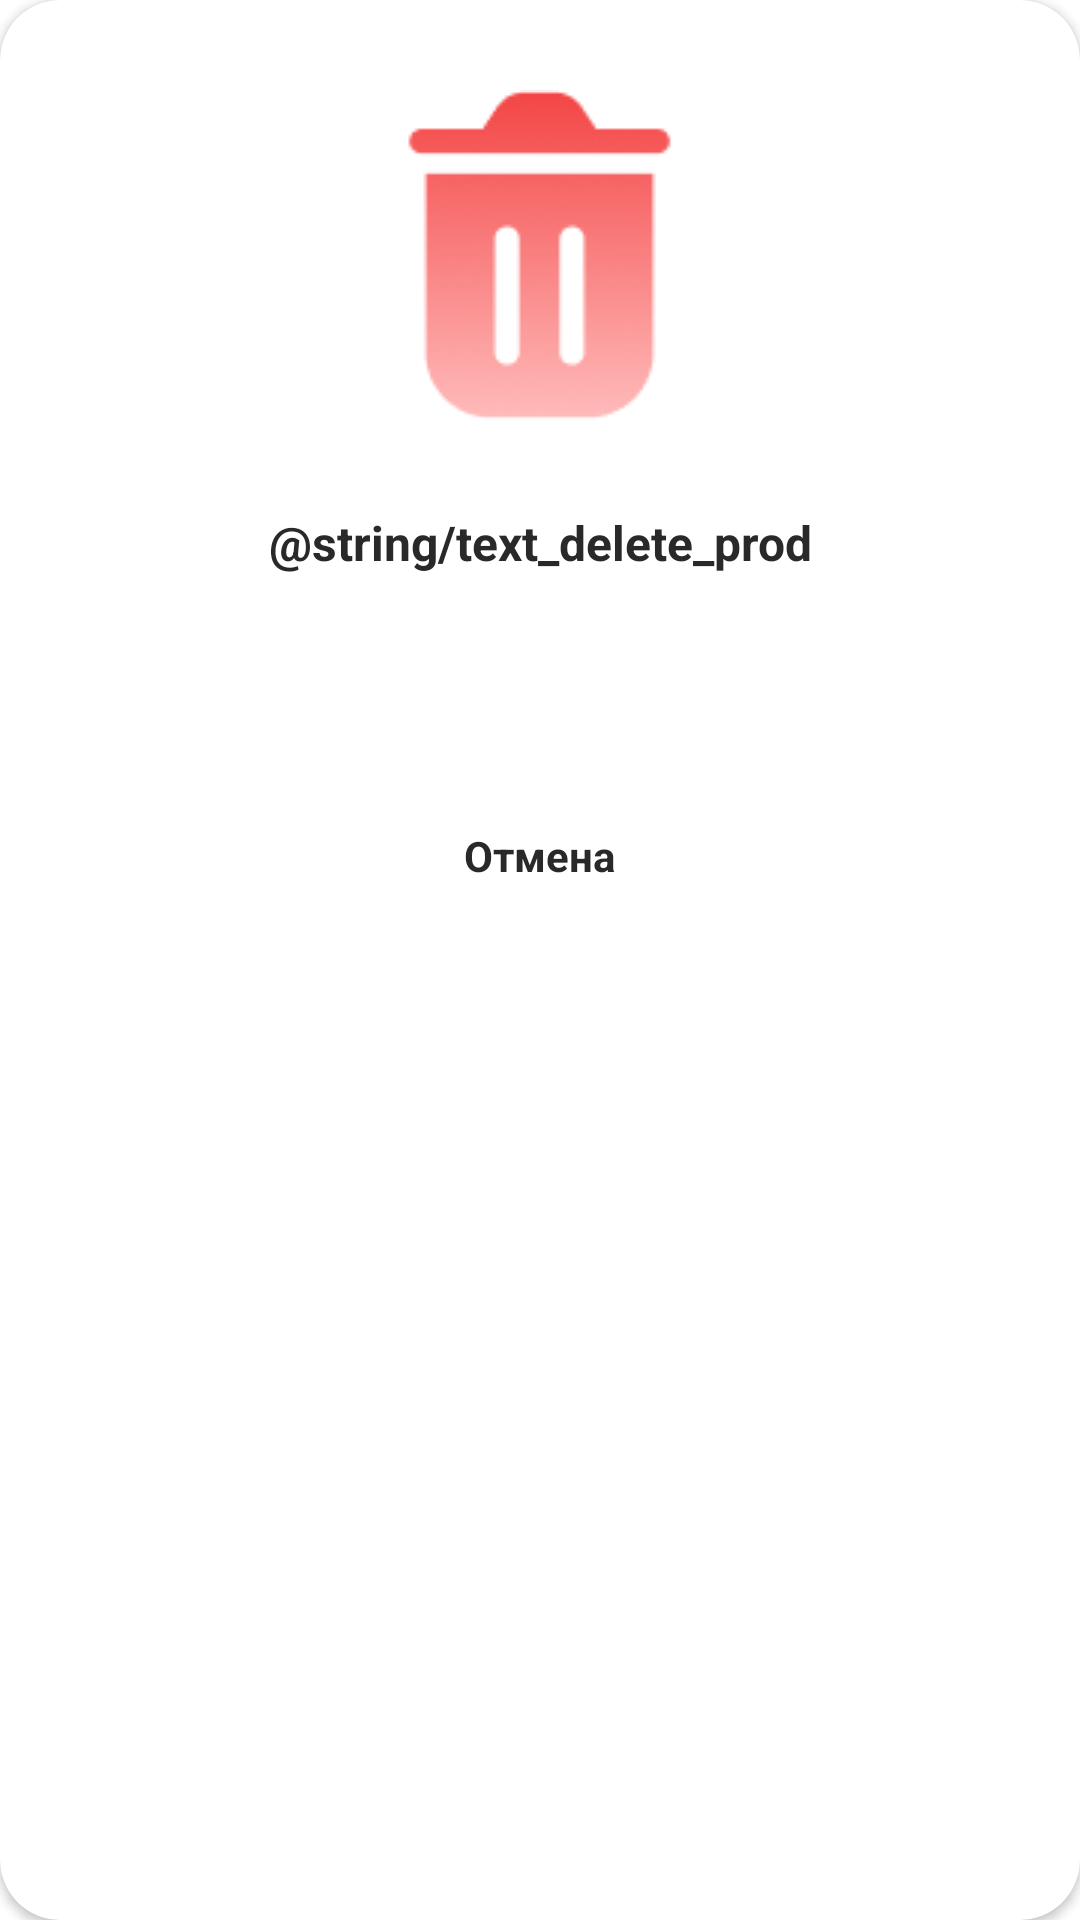

Locate icon controls on the screen. Image size 1080×1920, boxes as bbox=(x1, y1, x2, y2).
trash: bbox=(408, 92, 671, 418)
